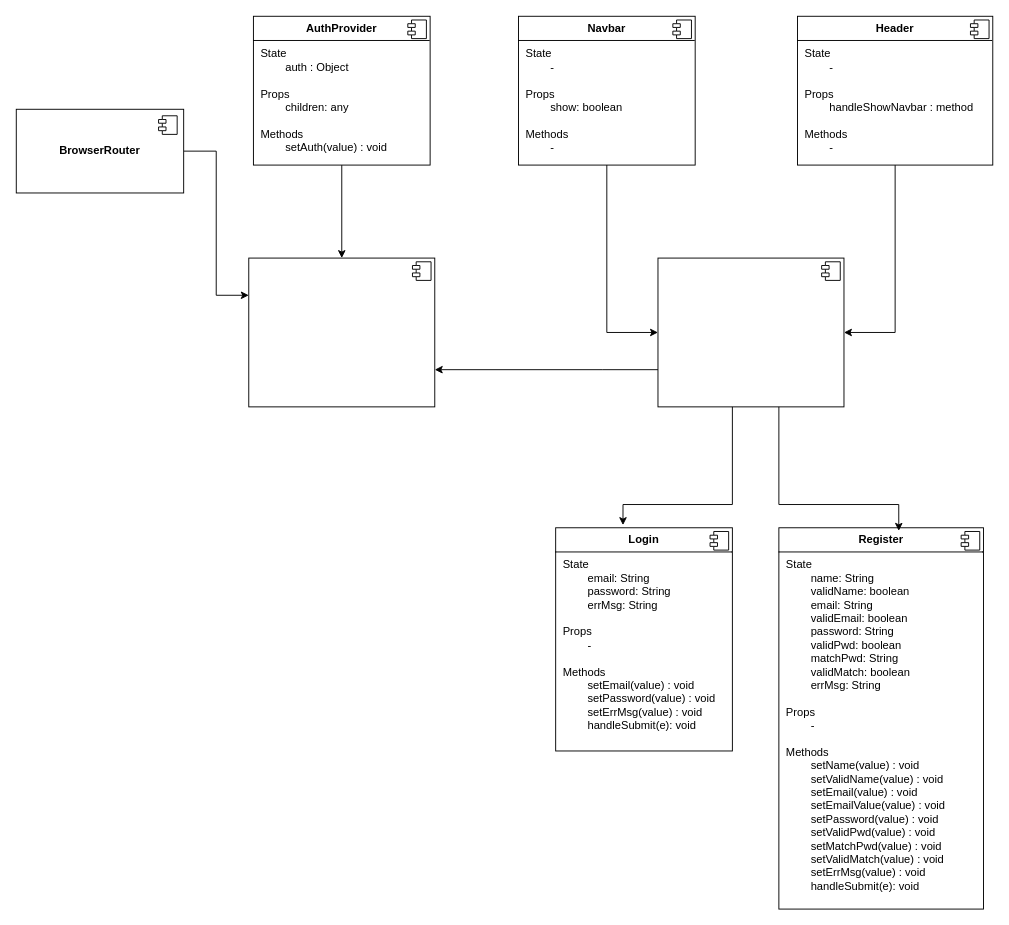
The diagram is 1009 pixels wide and 925 high, and some of its shapes have lost their labels. Each missing label, with the box of its shape:
App State showNavbar: boolean Props - Methods setShowNavbar(value) : void: (657, 257, 844, 407)
index.js State showNavbar: boolean Props - Methods setShowNavbar(value) : void: (248, 257, 435, 407)
